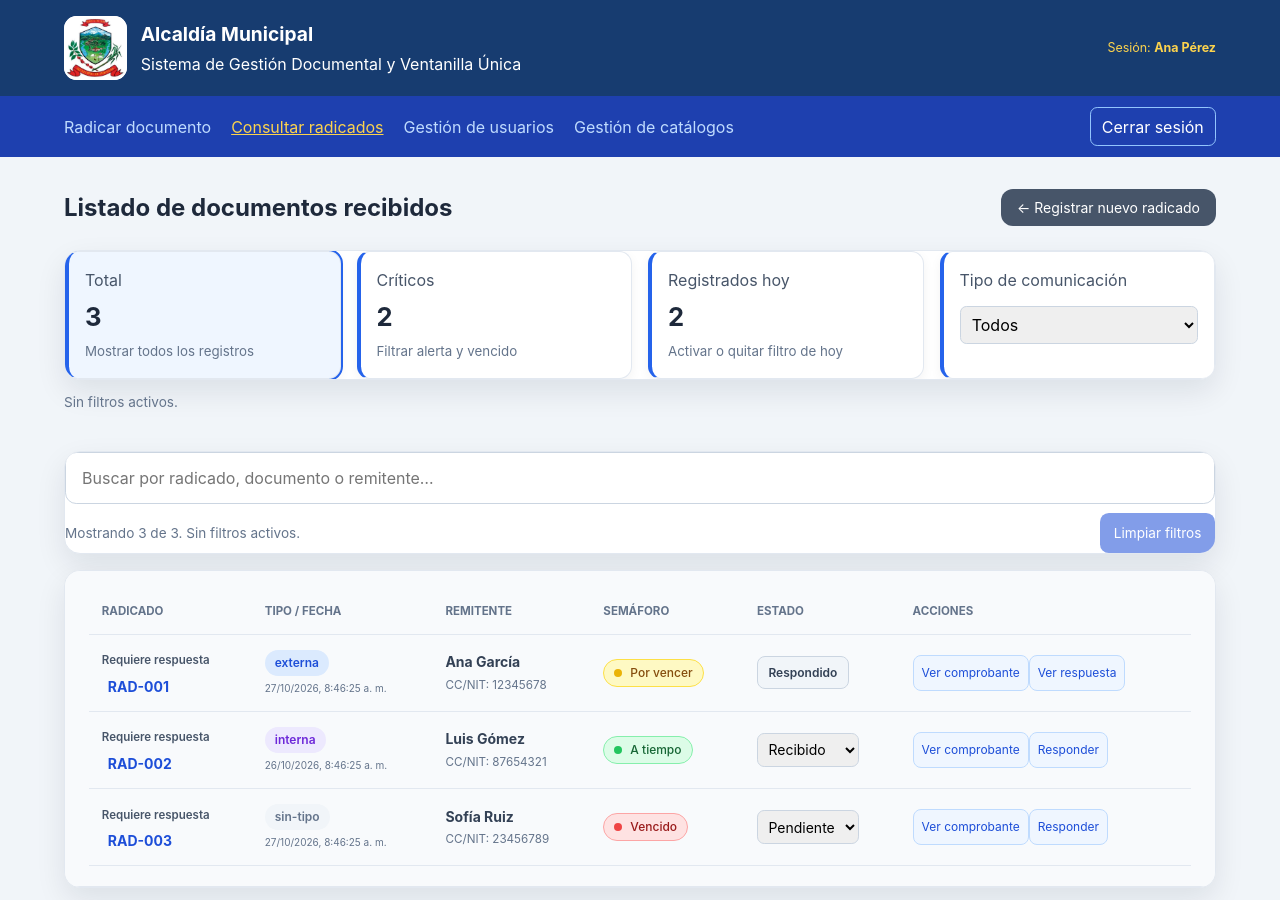
consulta de radicados React › consulta la respuesta global seleccionada y muestra dependencia Planeación
Expected: the button "RAD-001" is shown, top-left (102, 675), bottom-right (175, 698)
Expected: the button "RAD-002" is shown, top-left (102, 752), bottom-right (178, 775)
Click the button "Ver respuesta".
click(1077, 673)  # box top-left (1029, 655), bottom-right (1125, 691)
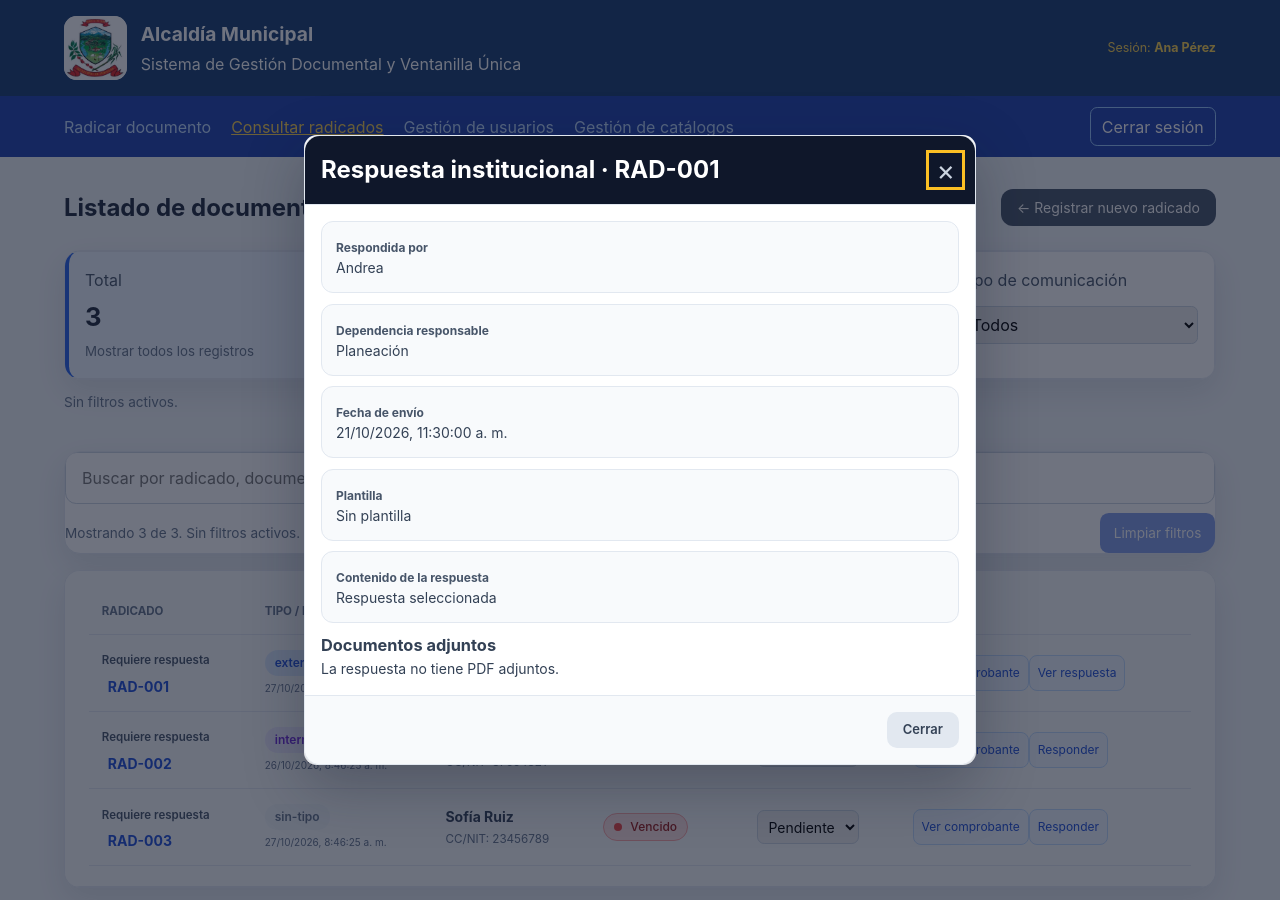
Result: the text "Planeación" is shown at top-left (336, 342), bottom-right (409, 359)
Result: the text "Andrea" is shown at top-left (336, 260), bottom-right (384, 276)
Result: the text "La respuesta no tiene PDF adjuntos." is shown at top-left (321, 660), bottom-right (559, 677)
